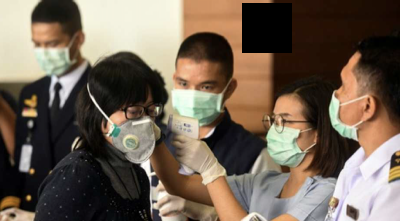with_mask: (110, 100, 162, 164), (170, 73, 225, 127), (265, 110, 310, 170), (329, 73, 361, 141), (34, 36, 73, 76)
